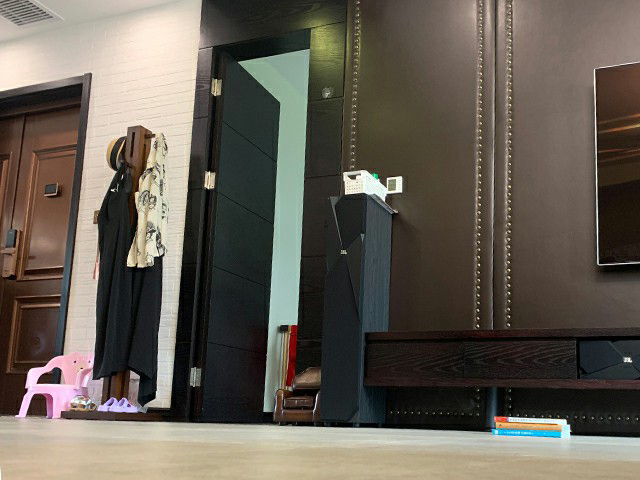book: (490, 415, 571, 438)
cabinet: (362, 327, 640, 433)
slippers: (110, 398, 138, 412)
sofa: (273, 365, 323, 427)
stool: (13, 352, 95, 420)
